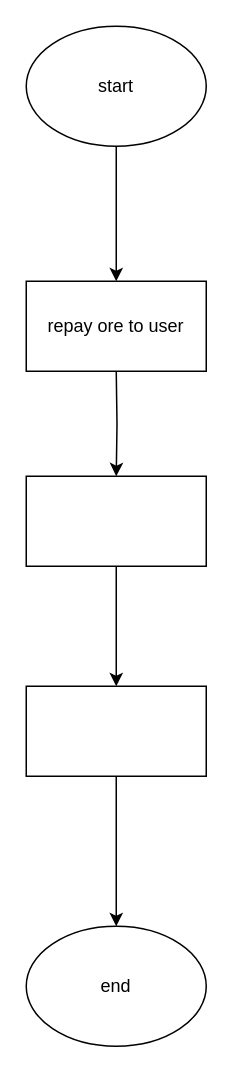
The diagram is 233 pixels wide and 1073 high, and some of its shapes have lost their labels. The box of each missing label's shape, as (x1, y1, x2, y2) in pixels:
redeem ore token from ore official: (25, 475, 206, 566)
repay ore to user get usdc: (25, 685, 206, 776)
